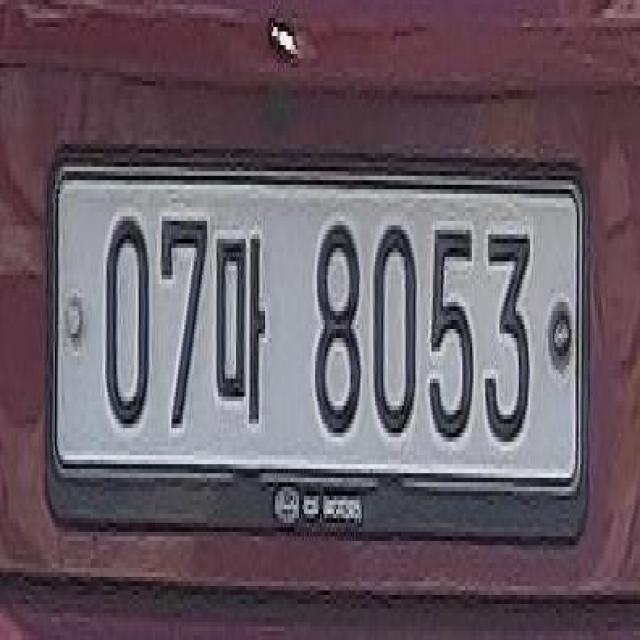illegal_plate: (47, 136, 598, 549)
